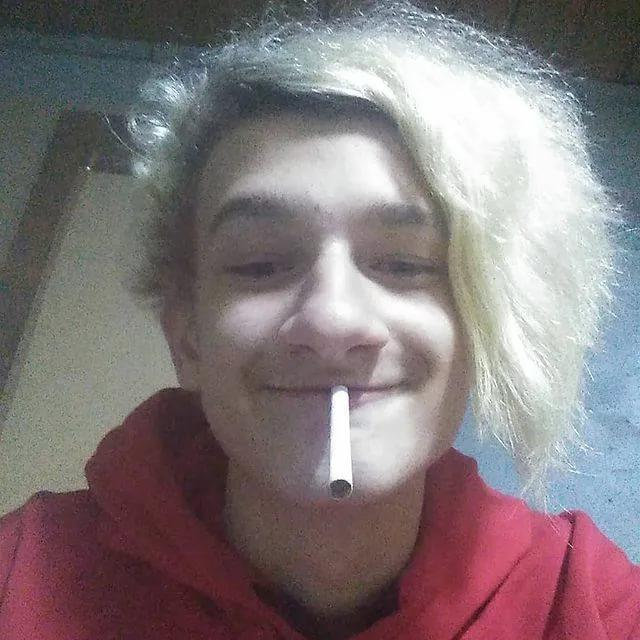cigarette: (324, 380, 361, 507)
